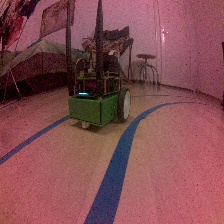rob: (66, 52, 131, 130)
